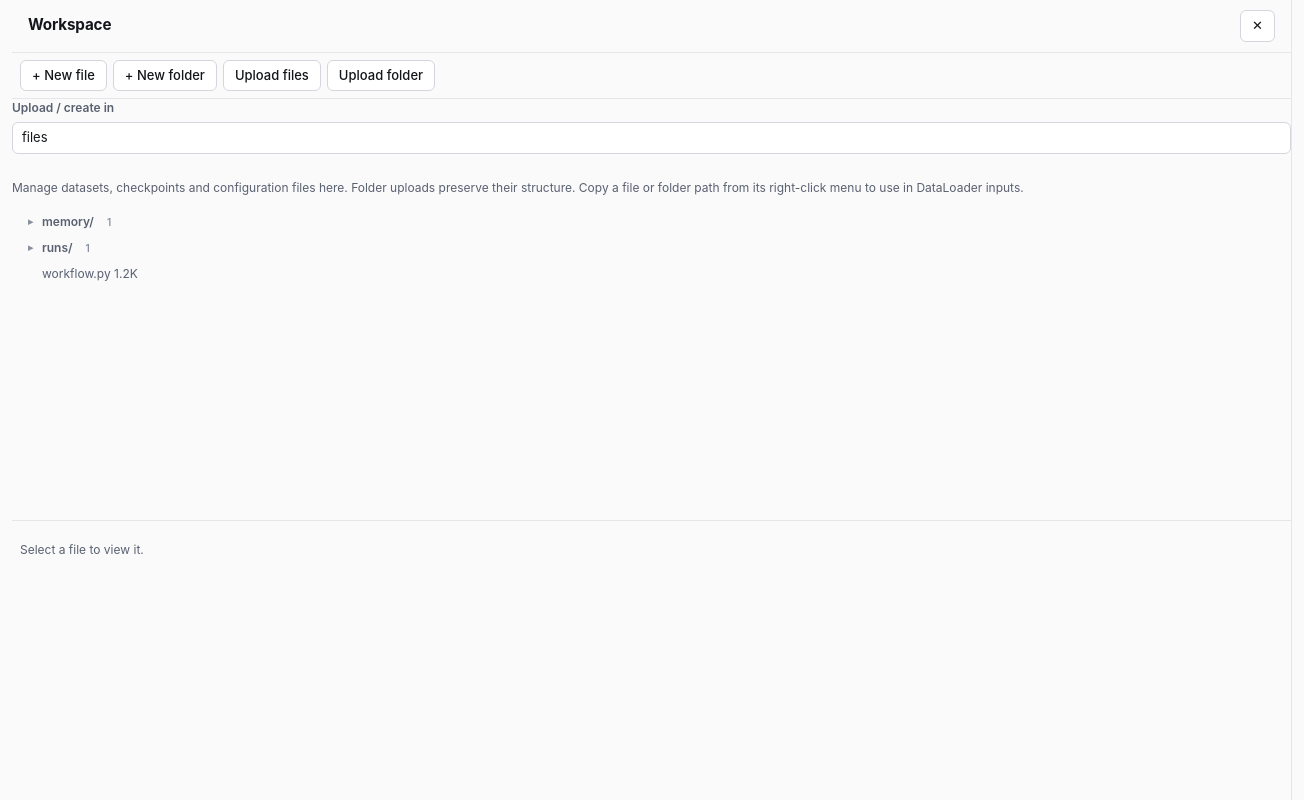
Test case: workspace right-click menu › keeps the folder when the second question is declined
Click the button with class "ws-folder" showing "▸ runs/ 1" at (61, 248), box [28,240,95,256]
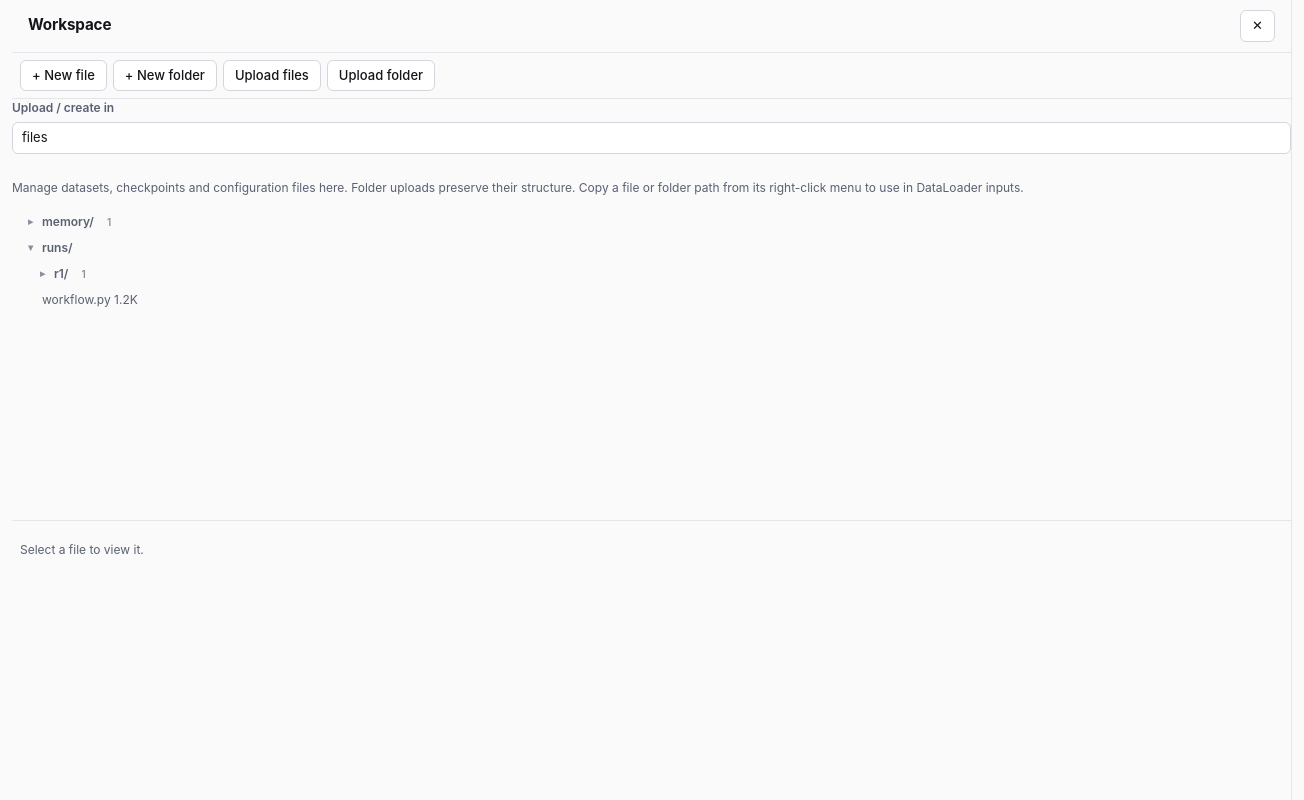
Right-click the button with class "ws-folder" showing "▸ r1/ 1" at (65, 274), box [40,266,91,282]
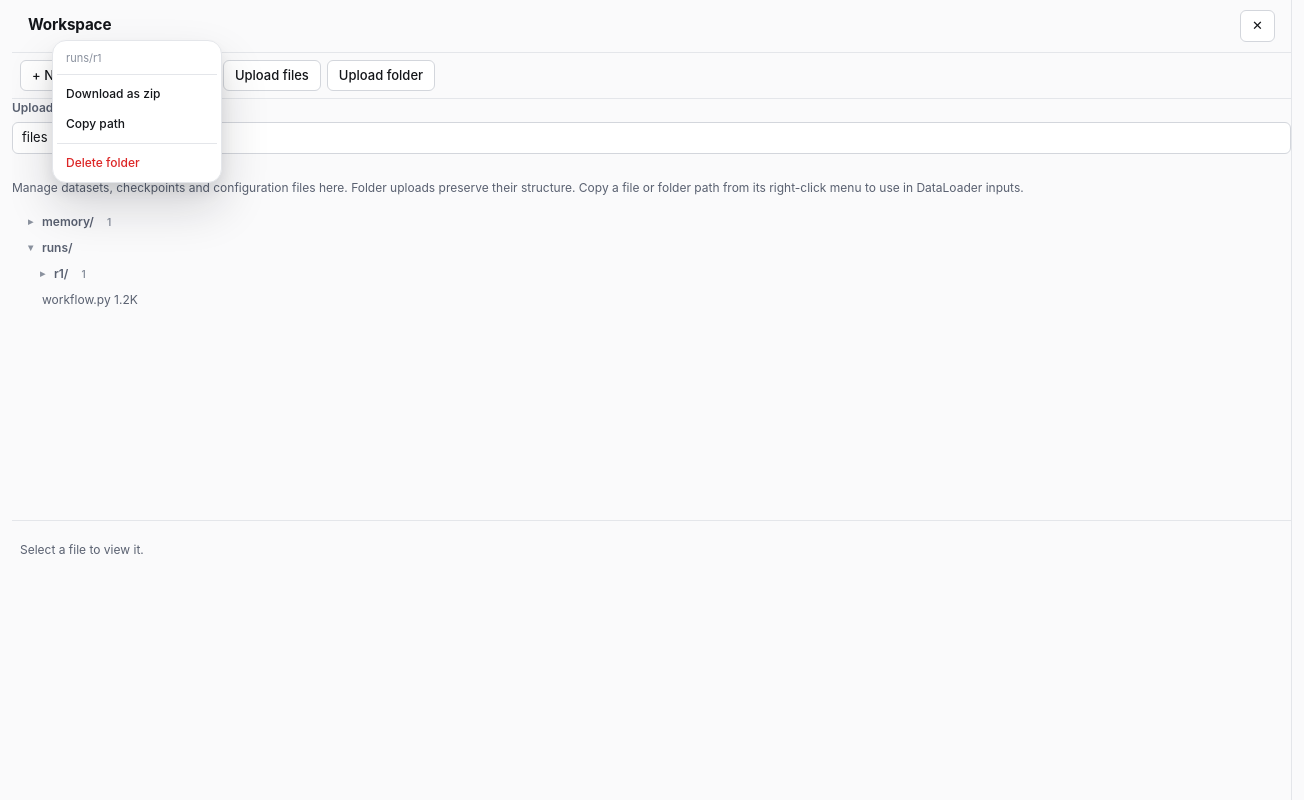
Click the button "Delete folder" at (137, 162), box [57,148,217,178]
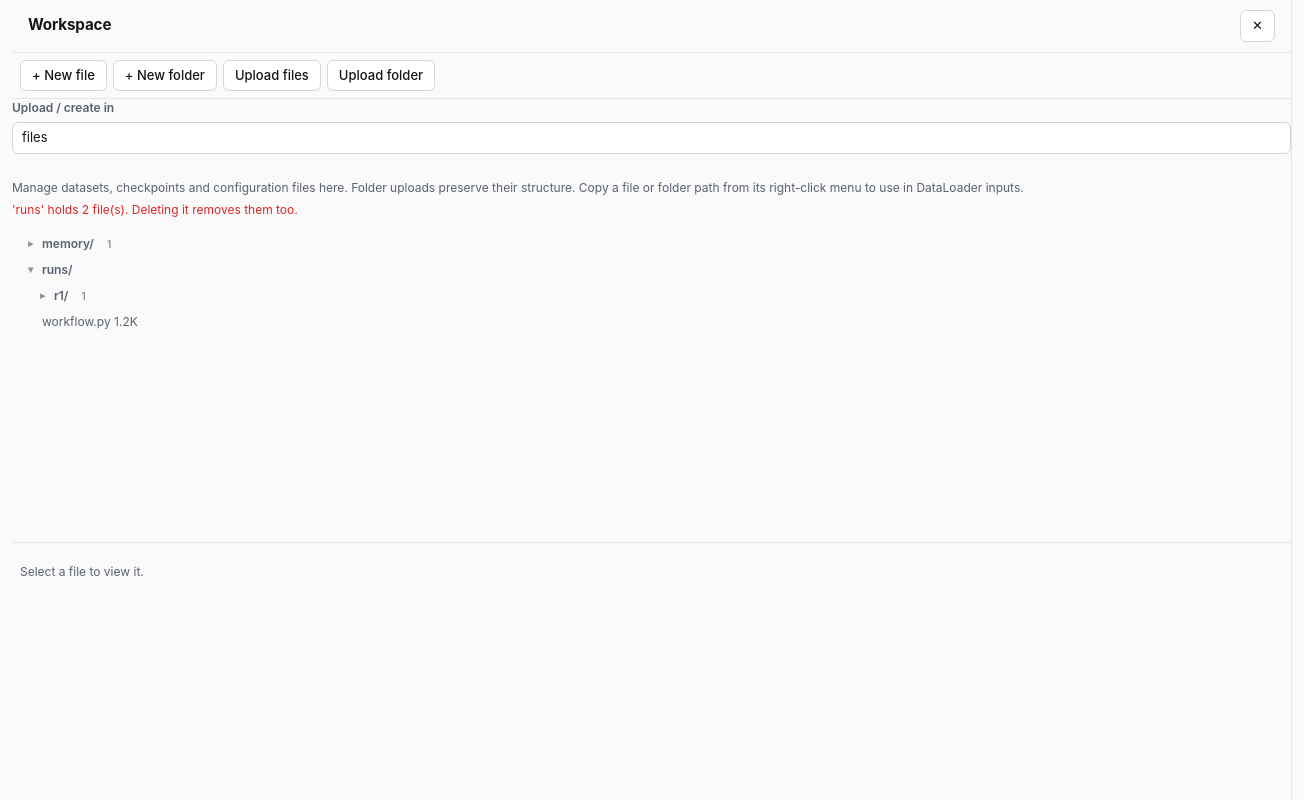
Result: the text "'runs' holds 2 file(s). Deleting it removes them too." is shown at [12,202,298,216]
